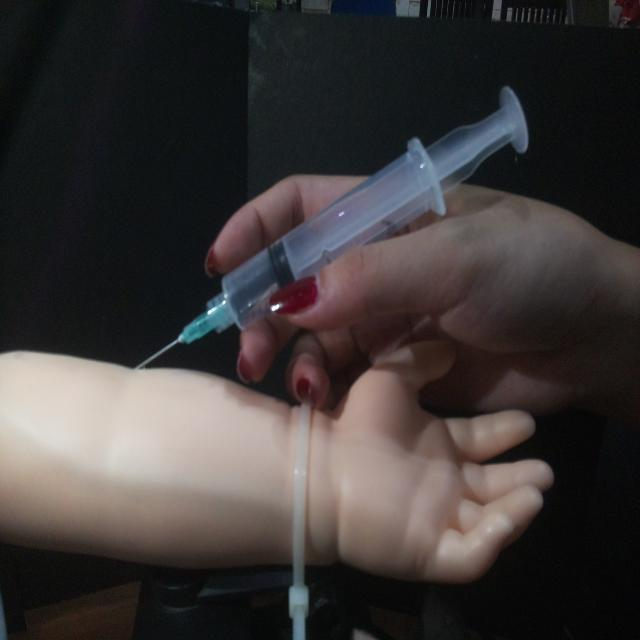28deg: (130, 80, 532, 372)
